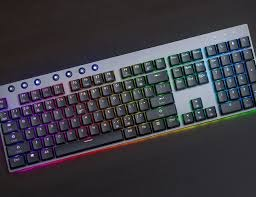keyboard: (2, 11, 254, 197)
